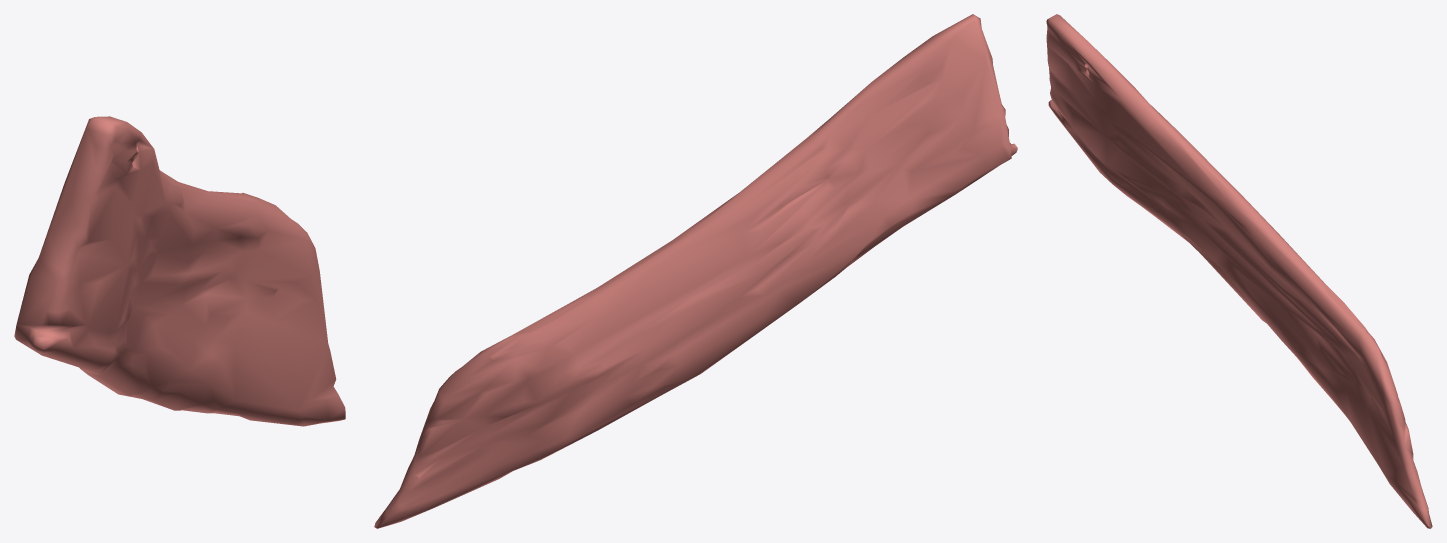
The picture shows the model from 3 angles, left to right: view 1: azimuth 30°, elevation 25°; view 2: azimuth 150°, elevation 25°; view 3: azimuth 270°, elevation 25°; orthographic projection. The views are drawn at different scales.
Visible parts, largest first — view 1: ZA_74df36823559349e; view 2: ZA_74df36823559349e; view 3: ZA_74df36823559349e.
Part boxes in pixels (<box>): ZA_74df36823559349e: <box>14,116,345,426</box>; ZA_74df36823559349e: <box>374,14,1017,528</box>; ZA_74df36823559349e: <box>1046,14,1432,528</box>.
Bounding box in the file's own units: 0.0856 × 0.0861 × 0.0827.
